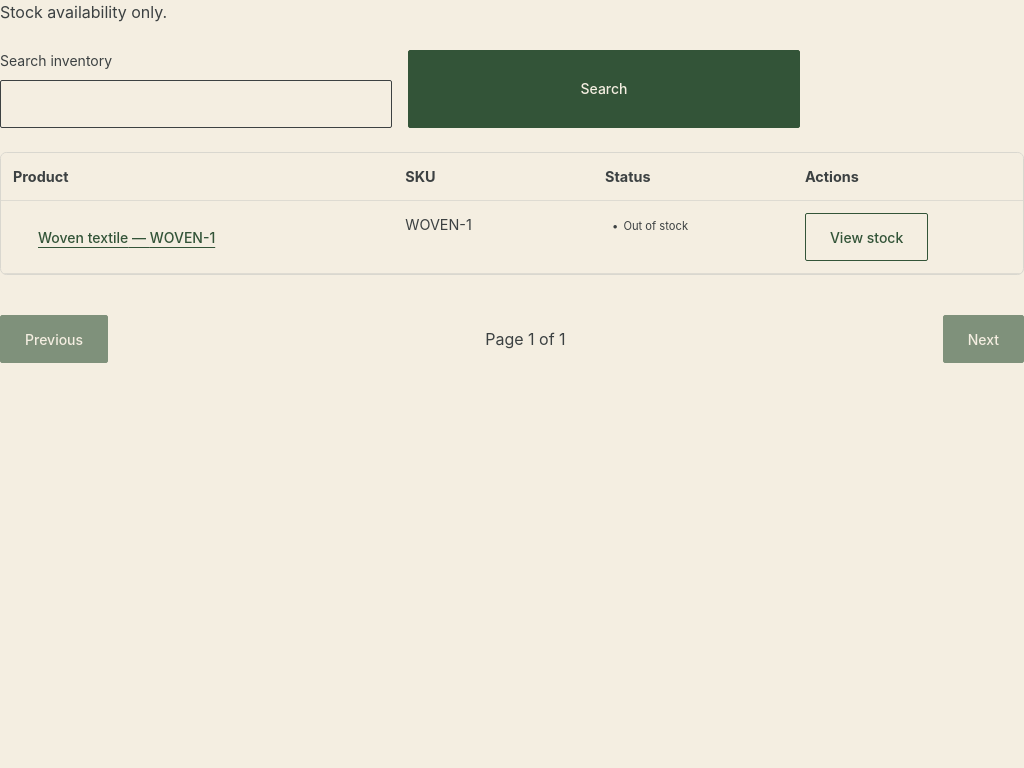
Scenario: inventory administration › shows order-processing staff availability without quantities or movement history
Click the button "View stock".
click(867, 237)  # box left=805, top=213, right=928, bottom=261
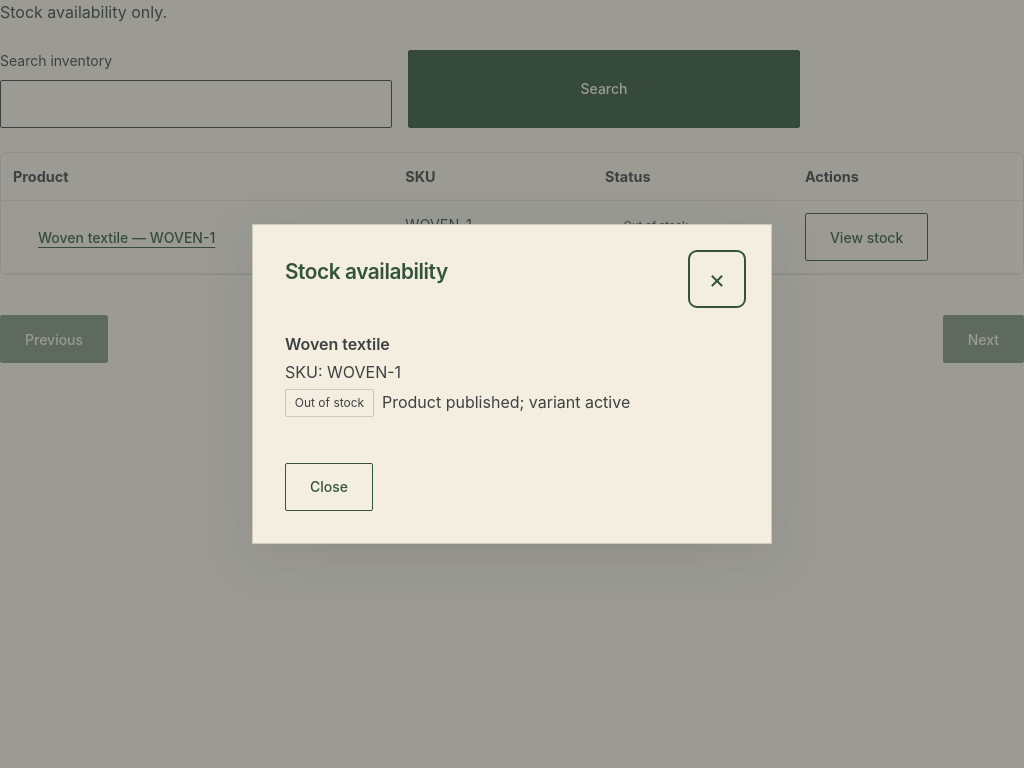
expect the text "Out of stock" is shown 2 times: met, box left=612, top=219, right=688, bottom=233; left=285, top=389, right=374, bottom=417
expect the dialog "Stock availability" is shown: met, box left=252, top=224, right=772, bottom=544
